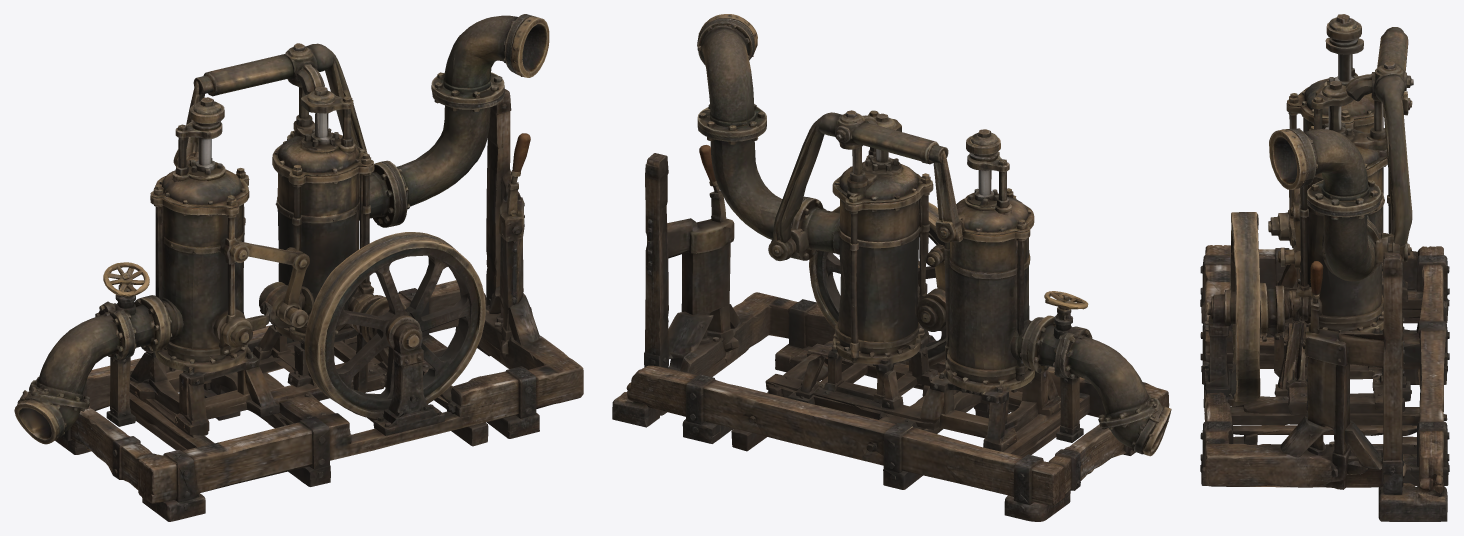
The model's file is pump_station.glb.
The picture shows the model from 3 angles, left to right: view 1: azimuth 30°, elevation 25°; view 2: azimuth 150°, elevation 25°; view 3: azimuth 270°, elevation 25°; orthographic projection. The views are drawn at different scales.
Visible parts, largest first — view 1: VeilfallTwinPistonPump; view 2: VeilfallTwinPistonPump; view 3: VeilfallTwinPistonPump.
Boxes of the visible parts, left/top/right/bottom form: VeilfallTwinPistonPump: left=14, top=14, right=583, bottom=521; VeilfallTwinPistonPump: left=612, top=14, right=1171, bottom=521; VeilfallTwinPistonPump: left=1200, top=14, right=1449, bottom=521.
Size of the model in its own units: 4.7 by 3.2 by 1.95.
Materials: 1 (1 with a texture image).
